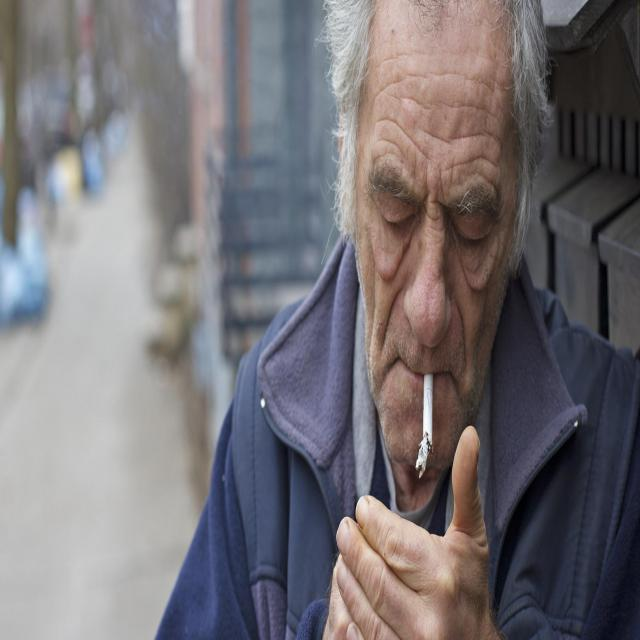cigarette: (413, 370, 440, 485)
